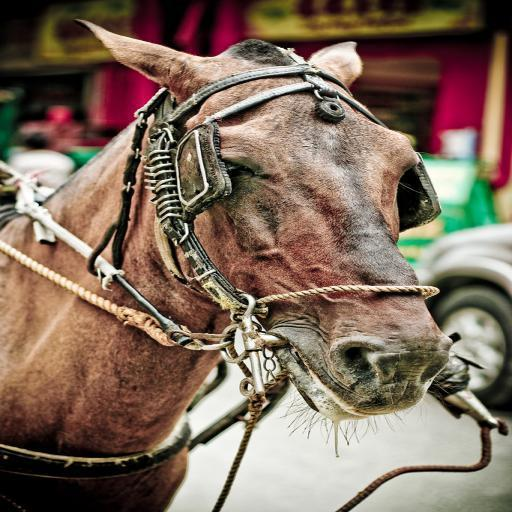horse: (0, 18, 455, 512)
